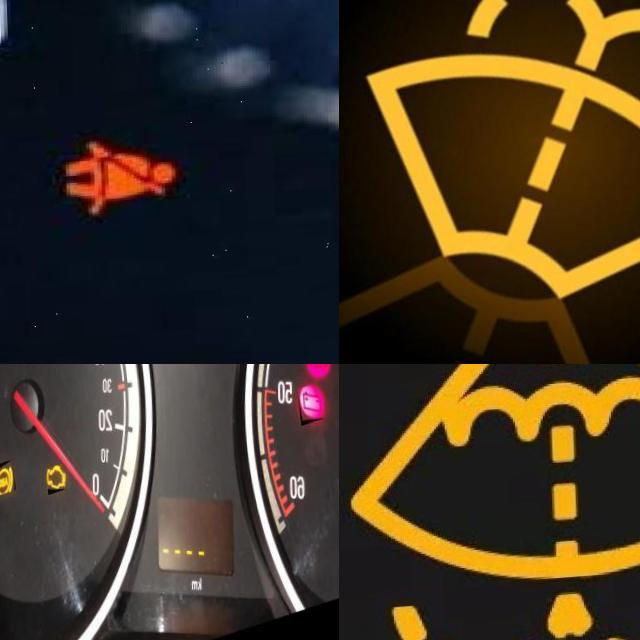Seat Belt: (61, 143, 173, 219)
Washer Fluid: (363, 0, 640, 317), (343, 364, 640, 640)
